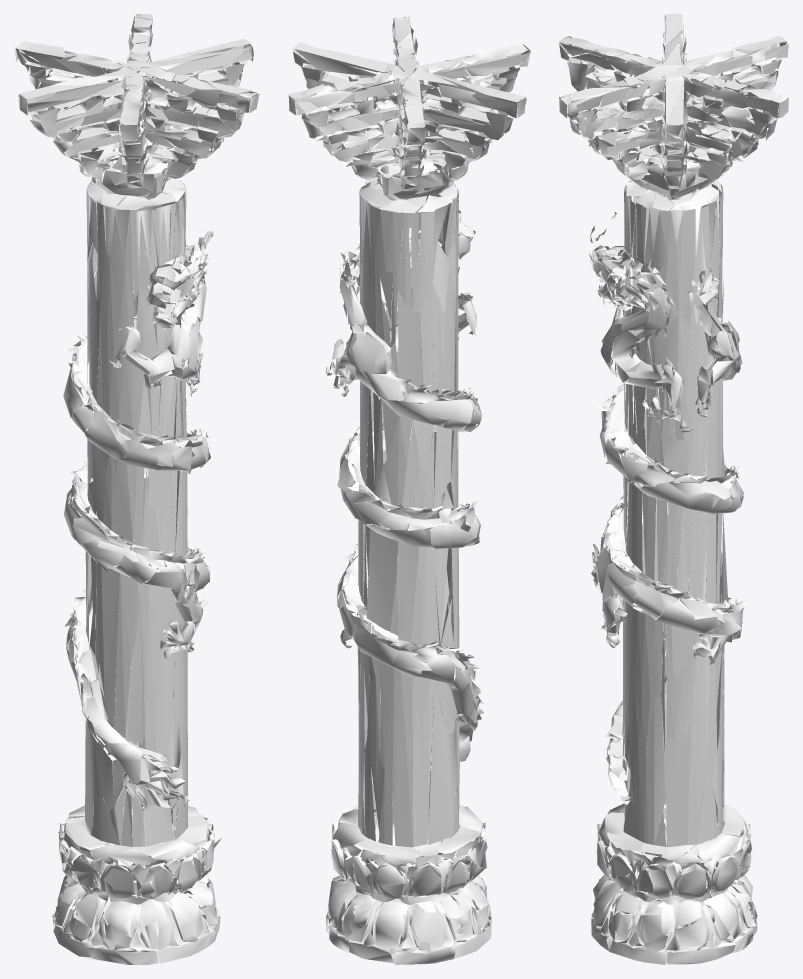
Rendered from dragon_pillar_lod2.glb.
The picture shows the model from 3 angles, left to right: view 1: azimuth 30°, elevation 25°; view 2: azimuth 150°, elevation 25°; view 3: azimuth 270°, elevation 25°; orthographic projection.
Parts seen in each view (by area): view 1: Mesh_0; view 2: Mesh_0; view 3: Mesh_0.
Boxes of the visible parts, <box> form: Mesh_0: <box>14,14,259,964</box>; Mesh_0: <box>288,16,530,964</box>; Mesh_0: <box>559,14,788,964</box>.
Size of the model in its own units: 1.79 by 6.52 by 1.57.
Materials: 1 (1 with a texture image).
